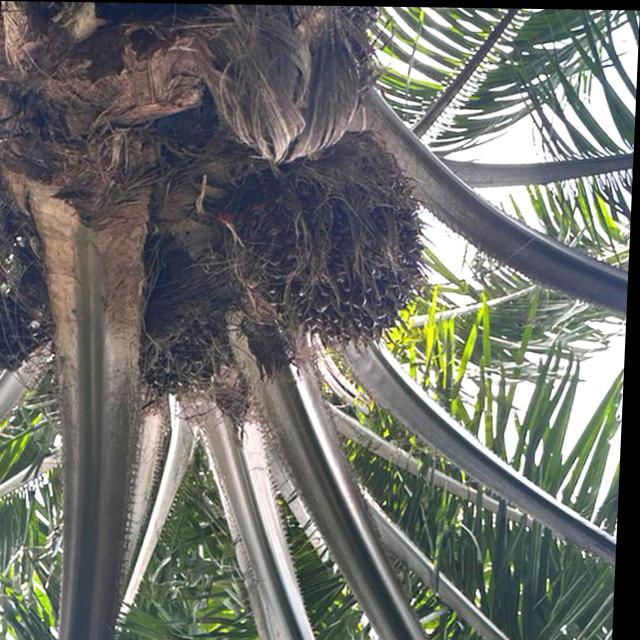unripe: (222, 119, 445, 352), (112, 213, 275, 411)
